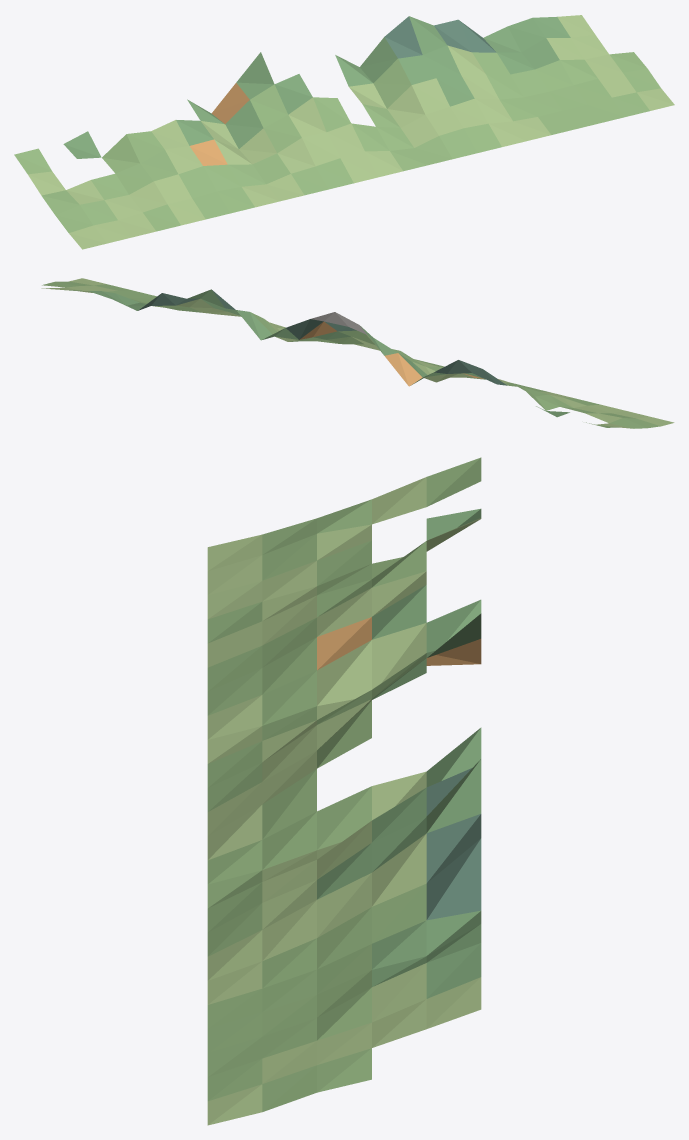
The model's file is bg_ridge_low.glb.
3 views of the same model, one above another, from view 1: azimuth 30°, elevation 25°; view 2: azimuth 150°, elevation 25°; view 3: azimuth 270°, elevation 25° (orthographic). The views are drawn at different scales.
Parts seen in each view (by area): view 1: bg_ridge_low; view 2: bg_ridge_low; view 3: bg_ridge_low.
Boxes of the visible parts, <box> form: bg_ridge_low: <box>14,15,674,249</box>; bg_ridge_low: <box>41,278,674,428</box>; bg_ridge_low: <box>207,457,481,1125</box>.
Size of the model in its own units: 300 by 45.81 by 60.
